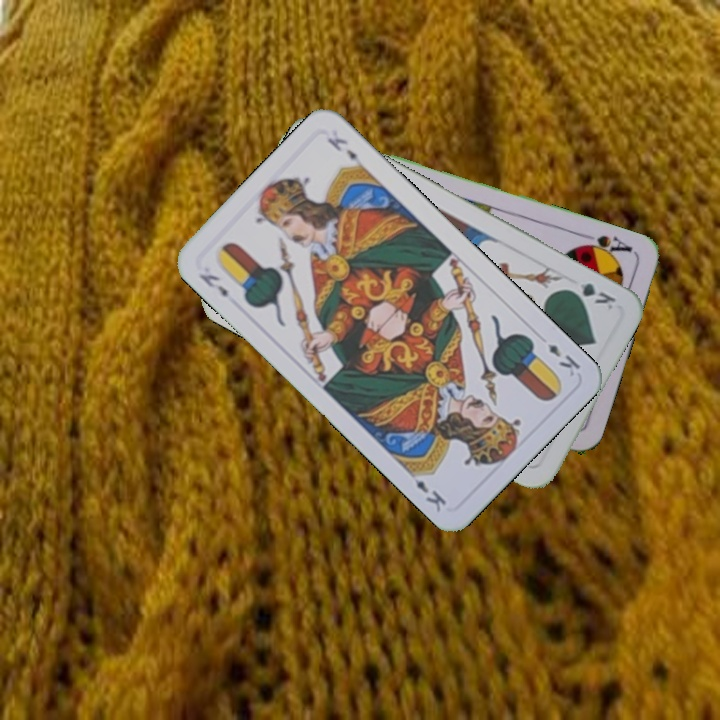EK: (543, 339, 583, 379), (195, 269, 231, 300)
GK: (562, 278, 619, 313)
SA: (575, 231, 635, 261)
